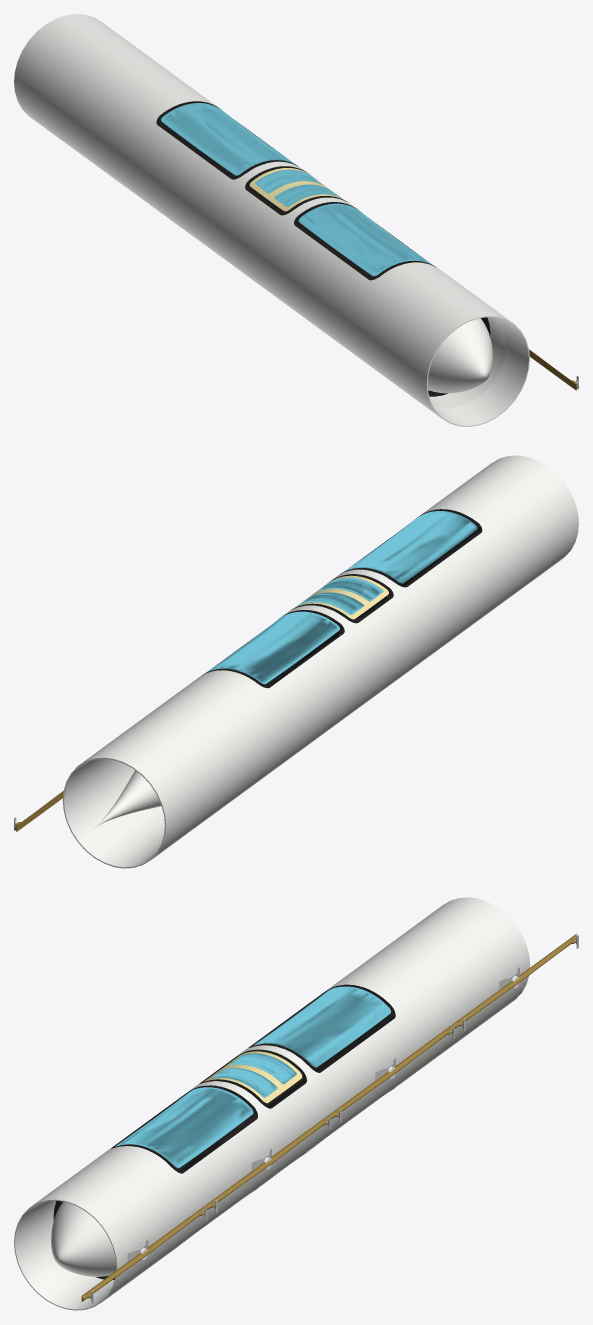
The model's file is TransitCar.fbx.
3 renders of one model, top to bottom at view 1: azimuth 30°, elevation 25°; view 2: azimuth 150°, elevation 25°; view 3: azimuth 330°, elevation 25°, orthographic.
Visible parts, largest first — view 1: Cowling, Window Starboard Front, Window Starboard Back, Body2, Window Trim Starboard Back, Window Trim Starboard Front, Cowling Doors Starboard, Door Starboard Back Exterior, Door Starboard Front Exterior, Door Trim Starboard Exterior; view 2: Cowling, Window Starboard Back, Window Starboard Front, Body3, Window Trim Starboard Front, Window Trim Starboard Back, Cowling Doors Starboard, Door Starboard Front Exterior, Door Starboard Back Exterior, Door Trim Starboard Exterior; view 3: Cowling, Window Starboard Front, Window Starboard Back, Bar (×4), Body2, Window Trim Starboard Front, Window Trim Starboard Back, Cowling Doors Starboard, Door Starboard Back Exterior, Door Starboard Front Exterior, Door Trim Starboard Exterior.
Part boxes in pixels (left/top/right/bottom): Cowling: left=14, top=14, right=529, bottom=426; Window Starboard Front: left=298, top=203, right=433, bottom=276; Window Starboard Back: left=161, top=103, right=295, bottom=175; Body2: left=427, top=318, right=492, bottom=393; Window Trim Starboard Back: left=156, top=101, right=298, bottom=179; Window Trim Starboard Front: left=294, top=202, right=436, bottom=280; Cowling Doors Starboard: left=249, top=168, right=346, bottom=211; Door Starboard Back Exterior: left=255, top=169, right=322, bottom=193; Door Starboard Front Exterior: left=274, top=184, right=341, bottom=207; Door Trim Starboard Exterior: left=245, top=166, right=348, bottom=215; Cowling: left=62, top=455, right=578, bottom=868; Window Starboard Back: left=206, top=611, right=339, bottom=684; Window Starboard Front: left=344, top=511, right=477, bottom=583; Body3: left=93, top=770, right=161, bottom=828; Window Trim Starboard Front: left=339, top=509, right=482, bottom=587; Window Trim Starboard Back: left=201, top=610, right=344, bottom=688; Cowling Doors Starboard: left=292, top=575, right=388, bottom=619; Door Starboard Front Exterior: left=316, top=577, right=383, bottom=601; Door Starboard Back Exterior: left=297, top=592, right=364, bottom=614; Door Trim Starboard Exterior: left=291, top=574, right=393, bottom=623; Cowling: left=14, top=897, right=530, bottom=1310; Window Starboard Front: left=115, top=1087, right=253, bottom=1168; Window Starboard Back: left=253, top=986, right=390, bottom=1067; Bar (×4): left=81, top=934, right=577, bottom=1301; Body2: left=51, top=1201, right=116, bottom=1276; Window Trim Starboard Front: left=111, top=1085, right=257, bottom=1173; Window Trim Starboard Back: left=248, top=984, right=395, bottom=1072; Cowling Doors Starboard: left=204, top=1051, right=302, bottom=1103; Door Starboard Back Exterior: left=228, top=1053, right=296, bottom=1084; Door Starboard Front Exterior: left=209, top=1068, right=277, bottom=1097; Door Trim Starboard Exterior: left=199, top=1049, right=306, bottom=1108.
Bounding box in the file's own units: 4.42 × 3.96 × 32.87.
